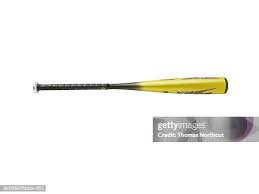baseball bat: (32, 76, 229, 94)
